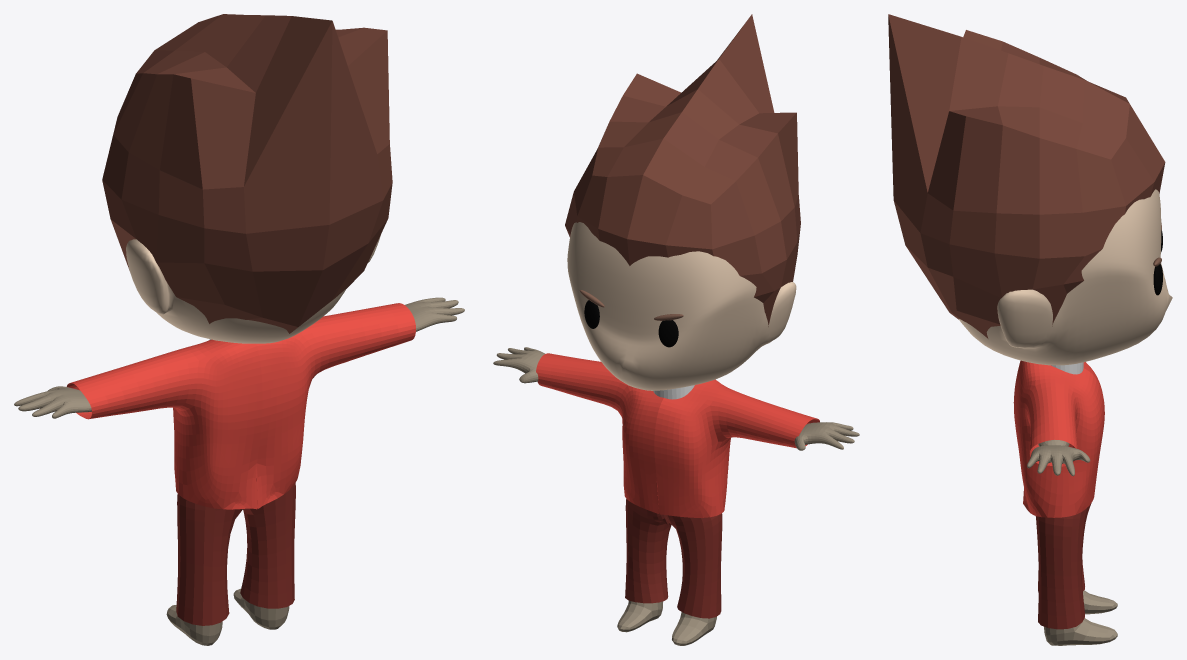
The model's file is kaiModelOjos.fbx.
3 views of the same model, side by side, from view 1: azimuth 30°, elevation 25°; view 2: azimuth 150°, elevation 25°; view 3: azimuth 270°, elevation 25° (orthographic). The views are drawn at different scales.
Parts seen in each view (by area): view 1: Pelo, Chaqueta, Pantalon, Head, Cuerpo; view 2: Pelo, Head, Chaqueta, Pantalon, Cuerpo, Sphere; view 3: Pelo, Head, Chaqueta, Pantalon, Cuerpo.
Part boxes in pixels (left/top/right/bottom): Pelo: left=102, top=14, right=392, bottom=333; Chaqueta: left=66, top=303, right=415, bottom=509; Pantalon: left=176, top=483, right=295, bottom=625; Head: left=126, top=235, right=380, bottom=343; Cuerpo: left=14, top=297, right=464, bottom=645; Pelo: left=565, top=14, right=800, bottom=326; Head: left=567, top=222, right=796, bottom=390; Chaqueta: left=536, top=353, right=819, bottom=517; Pantalon: left=625, top=499, right=722, bottom=618; Cuerpo: left=493, top=347, right=859, bottom=645; Sphere: left=584, top=300, right=678, bottom=347; Pelo: left=888, top=14, right=1165, bottom=338; Head: left=959, top=189, right=1172, bottom=365; Chaqueta: left=1013, top=360, right=1104, bottom=517; Pantalon: left=1035, top=503, right=1091, bottom=629; Cuerpo: left=1027, top=439, right=1117, bottom=645.
Bounding box in the file's own units: 3.14 × 4.66 × 1.95.
